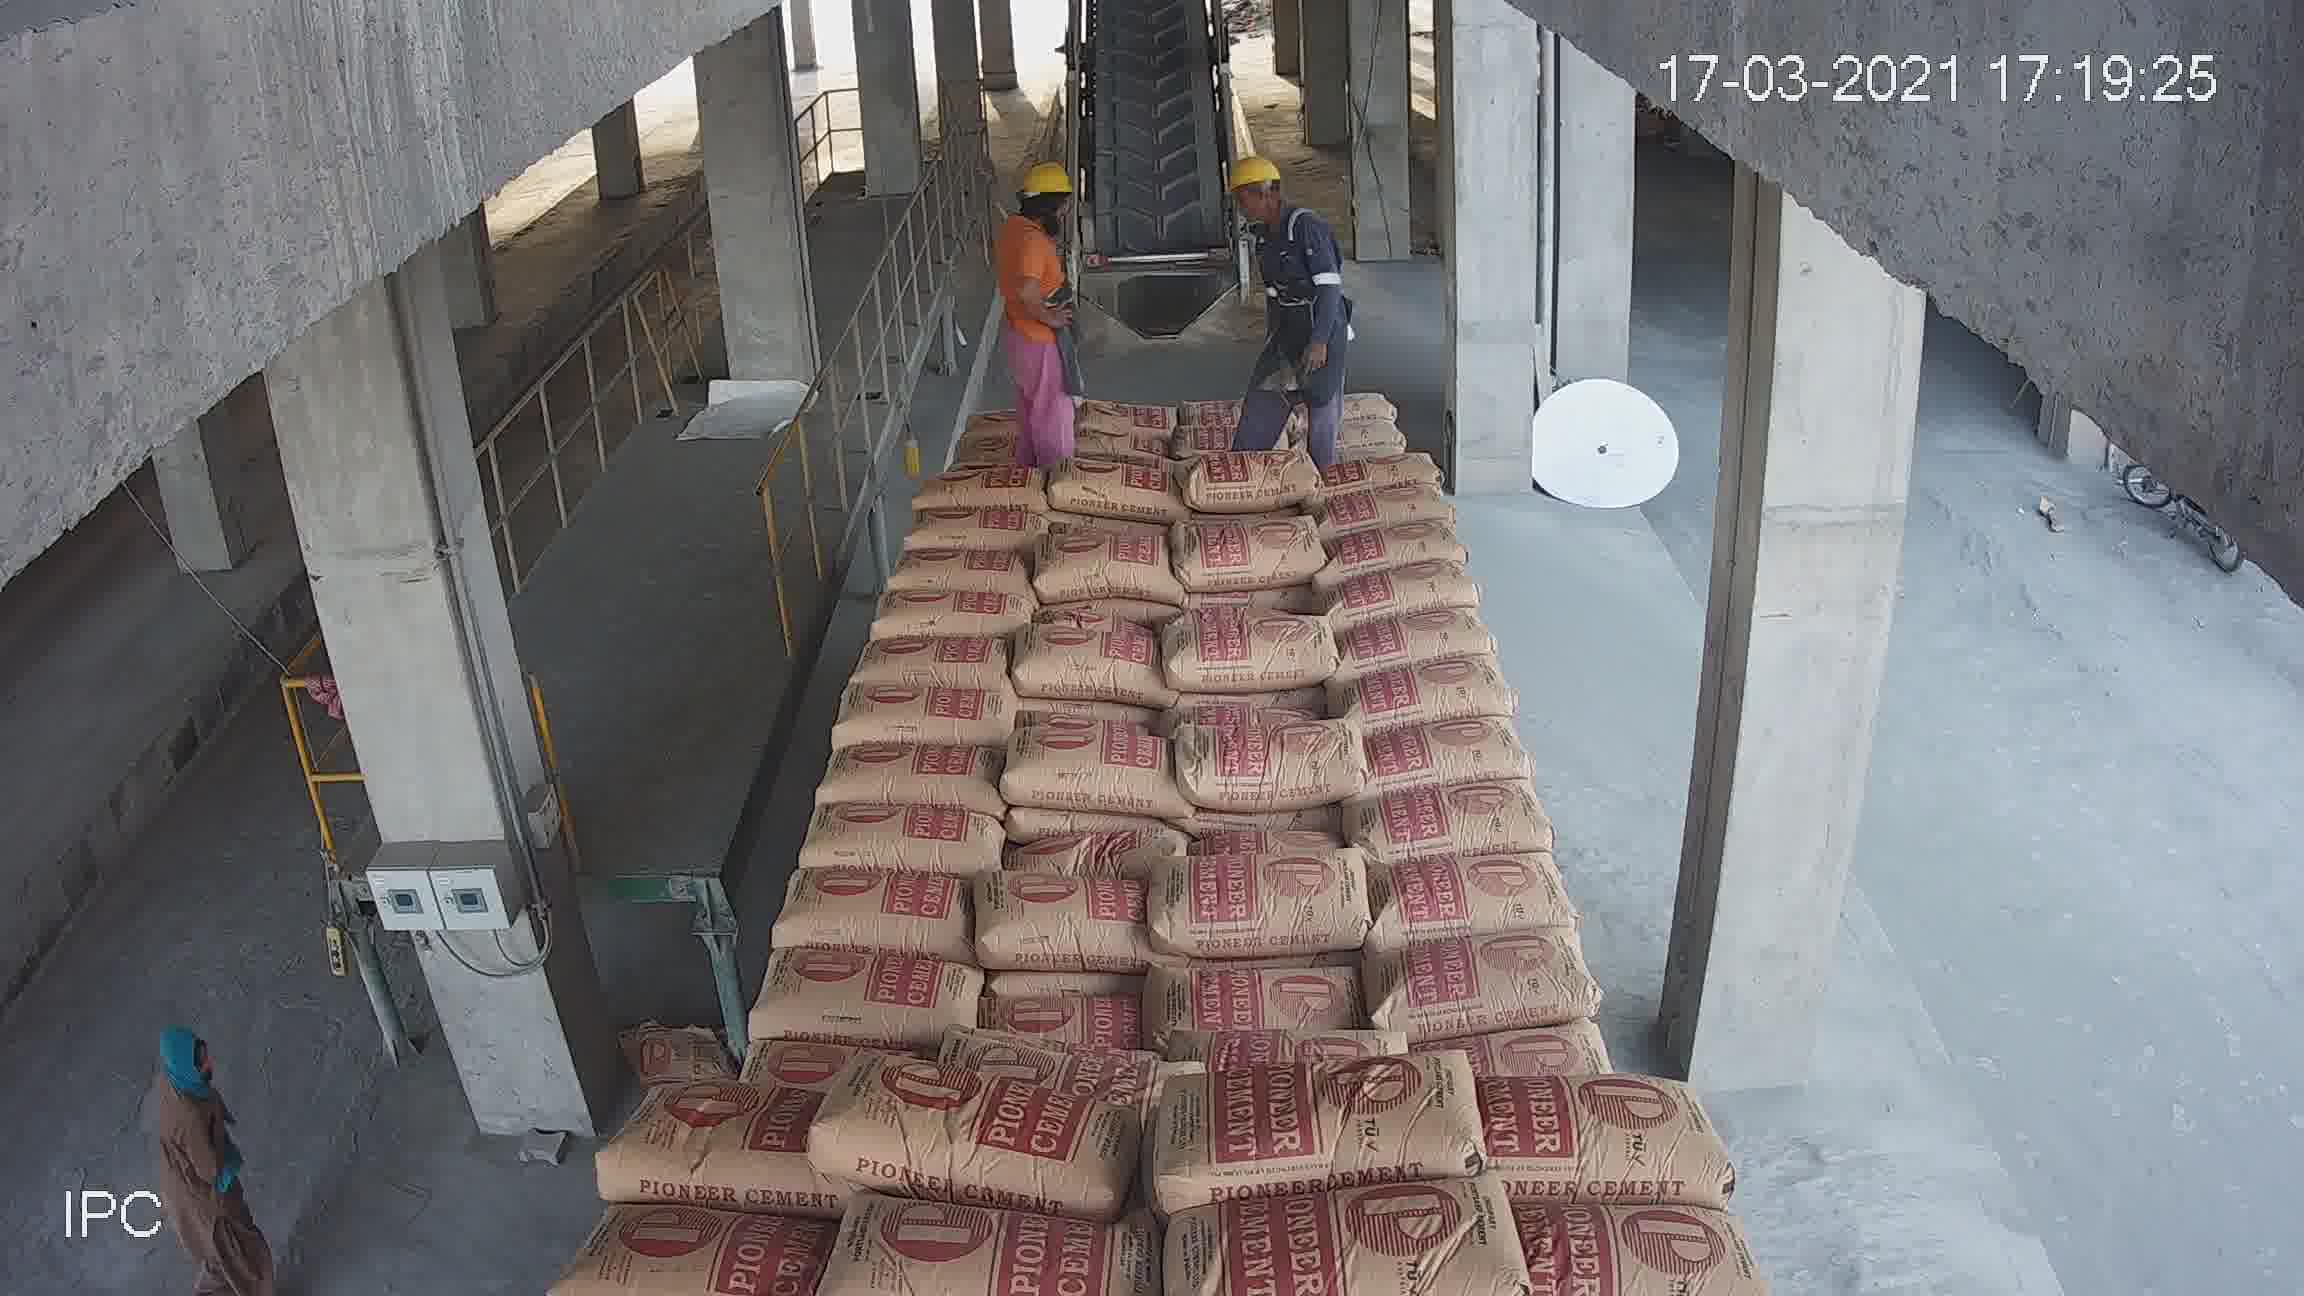bag_h: (1146, 1041, 1483, 1207), (788, 1060, 1147, 1215), (1173, 1169, 1518, 1287), (798, 1203, 1161, 1293), (582, 1063, 818, 1201), (1484, 1076, 1722, 1212), (1362, 915, 1608, 1041), (1119, 840, 1378, 938), (744, 953, 992, 1048), (790, 786, 1014, 888), (532, 1204, 805, 1287), (1358, 855, 1579, 956), (1331, 636, 1518, 748), (1367, 783, 1563, 889), (953, 859, 1143, 965), (828, 663, 1014, 766), (758, 870, 992, 949), (805, 726, 987, 821), (1366, 709, 1532, 812), (1157, 953, 1351, 1040), (1177, 714, 1367, 799), (1215, 1010, 1416, 1089), (932, 1036, 1211, 1093), (994, 617, 1166, 703), (1336, 600, 1499, 688), (994, 731, 1161, 815), (1521, 1225, 1791, 1275), (1152, 517, 1328, 593), (1157, 612, 1340, 684), (994, 812, 1161, 885), (1465, 1003, 1617, 1081), (987, 964, 1138, 1040), (1180, 434, 1331, 506), (1032, 529, 1176, 604), (864, 585, 1032, 646), (1332, 479, 1468, 552), (1334, 521, 1480, 589), (897, 486, 1049, 551), (896, 449, 1044, 510), (843, 635, 1010, 687), (1336, 562, 1478, 622), (1307, 441, 1438, 503), (1041, 464, 1185, 519), (870, 549, 1022, 597), (1074, 388, 1192, 445), (1051, 426, 1184, 465)
belt: (1063, 19, 1244, 291)
